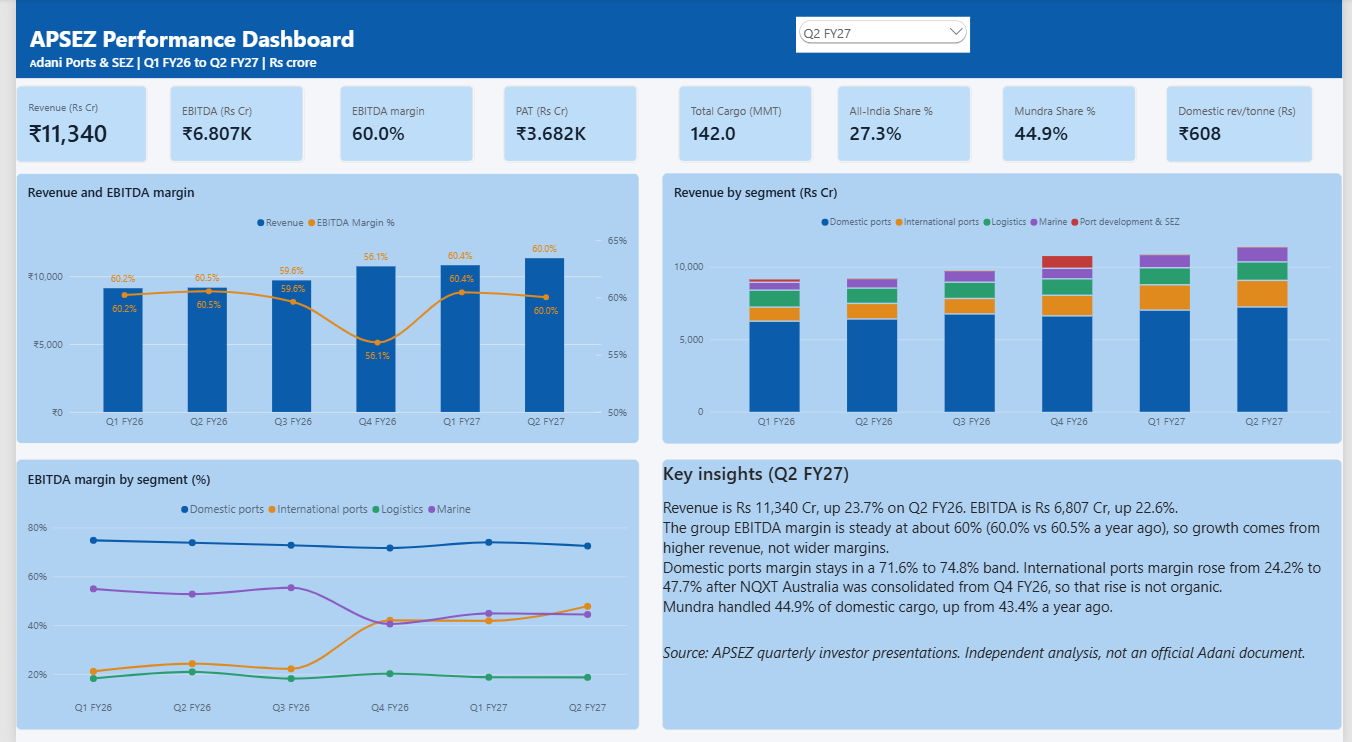

This screenshot's page, from the dashboard's own definition file:
{"tool":"powerbi","page":{"name":"Executive Overview","canvas":[1920,1080],"ordinal":0},"visuals":[{"type":"textbox","box":[0,0,1920,116],"z":0},{"type":"slicer","fields":{"Values":["dim_quarter.quarter_key"]},"box":[1130,28,252,52],"z":1000},{"type":"cardVisual","fields":{"Data":["_Measures.Revenue"]},"box":[0,126.7,190,111.7],"z":2000},{"type":"cardVisual","fields":{"Data":["_Measures.EBITDA"]},"box":[223.3,126.7,194.9,111.9],"z":3000},{"type":"cardVisual","fields":{"Data":["_Measures.EBITDA Margin %"]},"box":[453.3,126.7,194.9,111.9],"z":4000},{"type":"cardVisual","fields":{"Data":["_Measures.PAT"]},"box":[688.3,126.7,194.9,111.9],"z":5000},{"type":"cardVisual","fields":{"Data":["_Measures.Total Cargo (MMT)"]},"box":[935,126.7,194.9,111.9],"z":6000},{"type":"cardVisual","fields":{"Data":["_Measures.All-India Share %"]},"box":[1188.3,126.7,194.9,111.9],"z":7000},{"type":"lineClusteredColumnComboChart","title":"Revenue and EBITDA margin","fields":{"Category":["dim_quarter.quarter_key"],"Y":["_Measures.Revenue"],"Y2":["_Measures.EBITDA Margin %"]},"box":[0,254,902,392],"z":8000},{"type":"columnChart","title":"Revenue by segment (Rs Cr)","fields":{"Category":["dim_quarter.quarter_key"],"Series":["dim_segment.segment"],"Y":["_Measures.Segment Revenue"]},"box":[936,254,984,392],"z":9000},{"type":"lineChart","title":"EBITDA margin by segment (%)","fields":{"Category":["dim_quarter.quarter_key"],"Series":["dim_segment.segment"],"Y":["_Measures.Segment Margin %"]},"box":[0,668,902,392],"z":10000},{"type":"textbox","box":[936,668,984,392],"z":11000},{"type":"cardVisual","fields":{"Data":["_Measures.Mundra Share %"]},"box":[1428,126,194.9,111.9],"z":11001},{"type":"cardVisual","fields":{"Data":["_Measures.Domestic Revenue per Tonne (Rs)"]},"box":[1664,126,200,112],"z":11002}]}

Visuals, with their boxes in screenshot pixels (x1, y1, x2, y2), scaled from the page's 1920x1080 canvas onto the 1352x742 screenshot:
textbox: bbox(0, 0, 1351, 80)
slicer - dim_quarter.quarter_key: bbox(796, 19, 973, 55)
cardVisual - _Measures.Revenue: bbox(0, 87, 134, 164)
cardVisual - _Measures.EBITDA: bbox(157, 87, 294, 164)
cardVisual - _Measures.EBITDA Margin %: bbox(319, 87, 456, 164)
cardVisual - _Measures.PAT: bbox(485, 87, 622, 164)
cardVisual - _Measures.Total Cargo (MMT): bbox(658, 87, 796, 164)
cardVisual - _Measures.All-India Share %: bbox(837, 87, 974, 164)
"Revenue and EBITDA margin" lineClusteredColumnComboChart: bbox(0, 175, 635, 444)
"Revenue by segment (Rs Cr)" columnChart: bbox(659, 175, 1351, 444)
"EBITDA margin by segment (%)" lineChart: bbox(0, 459, 635, 728)
textbox: bbox(659, 459, 1351, 728)
cardVisual - _Measures.Mundra Share %: bbox(1006, 87, 1143, 163)
cardVisual - _Measures.Domestic Revenue per Tonne (Rs): bbox(1172, 87, 1313, 164)
